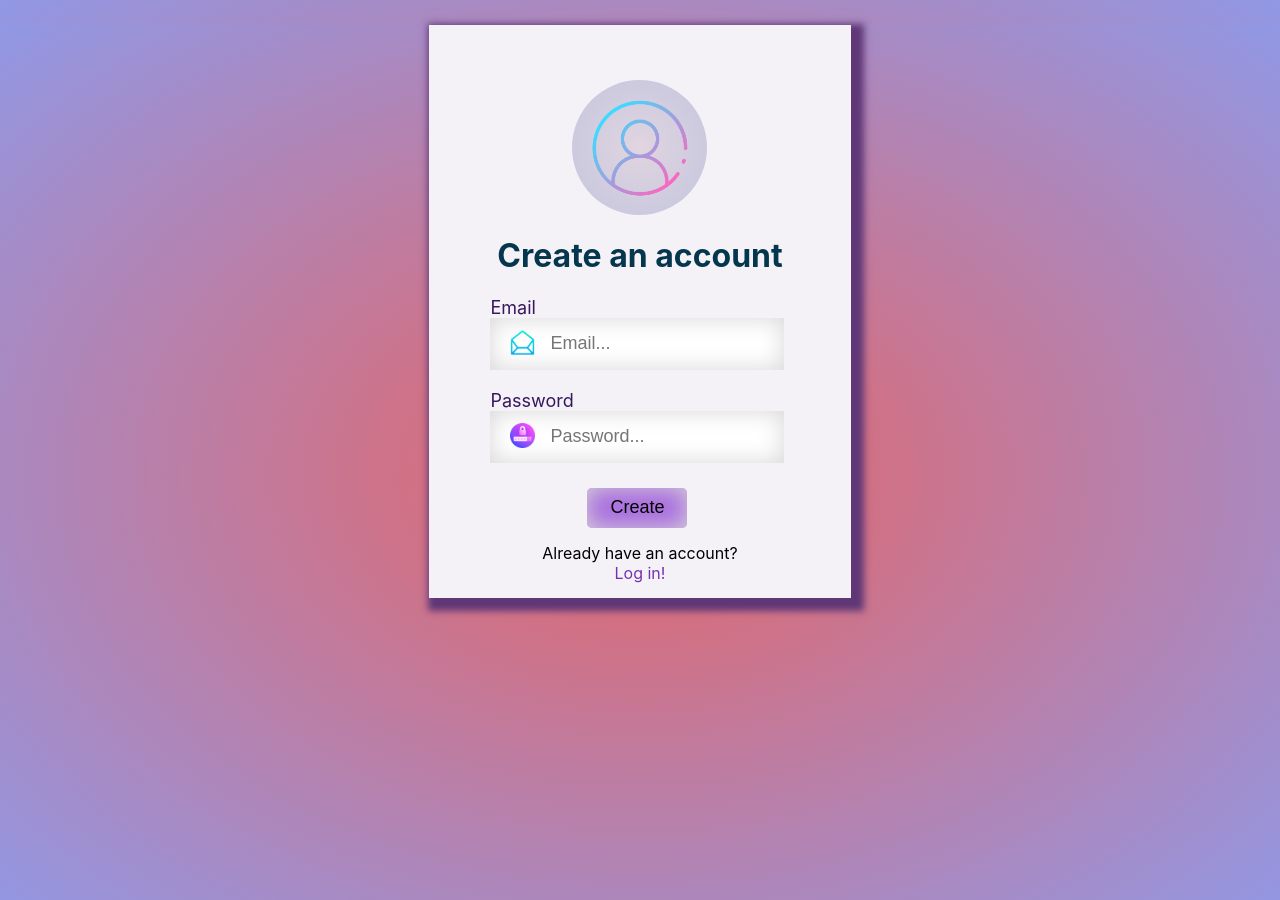
Scenario: if account creation is unsuccessfull error message appears
Step 1. Click the button "Create" → (638, 508), box 588,488 -> 688,528
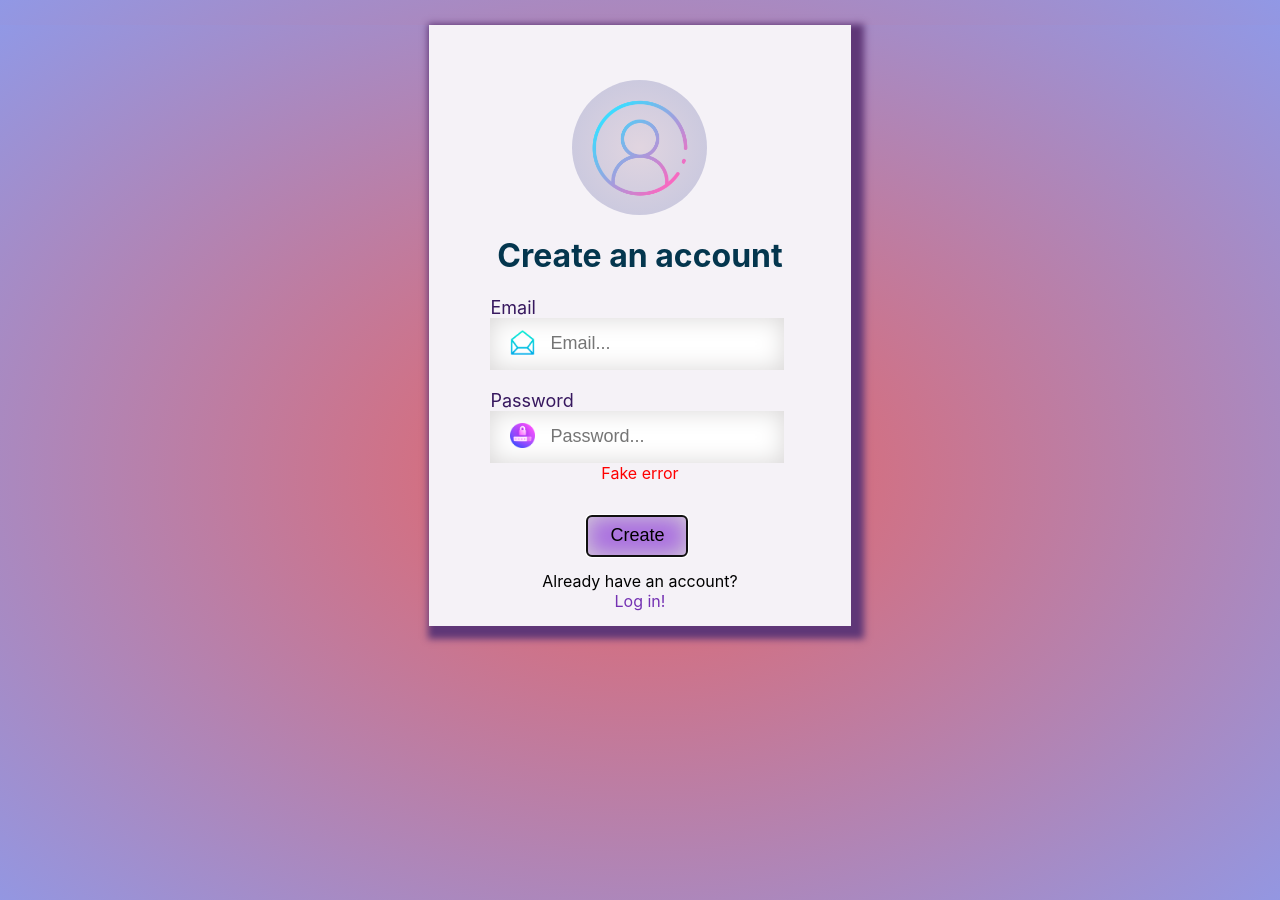
Result: the text "Fake error" is shown at 601,463 -> 679,483
